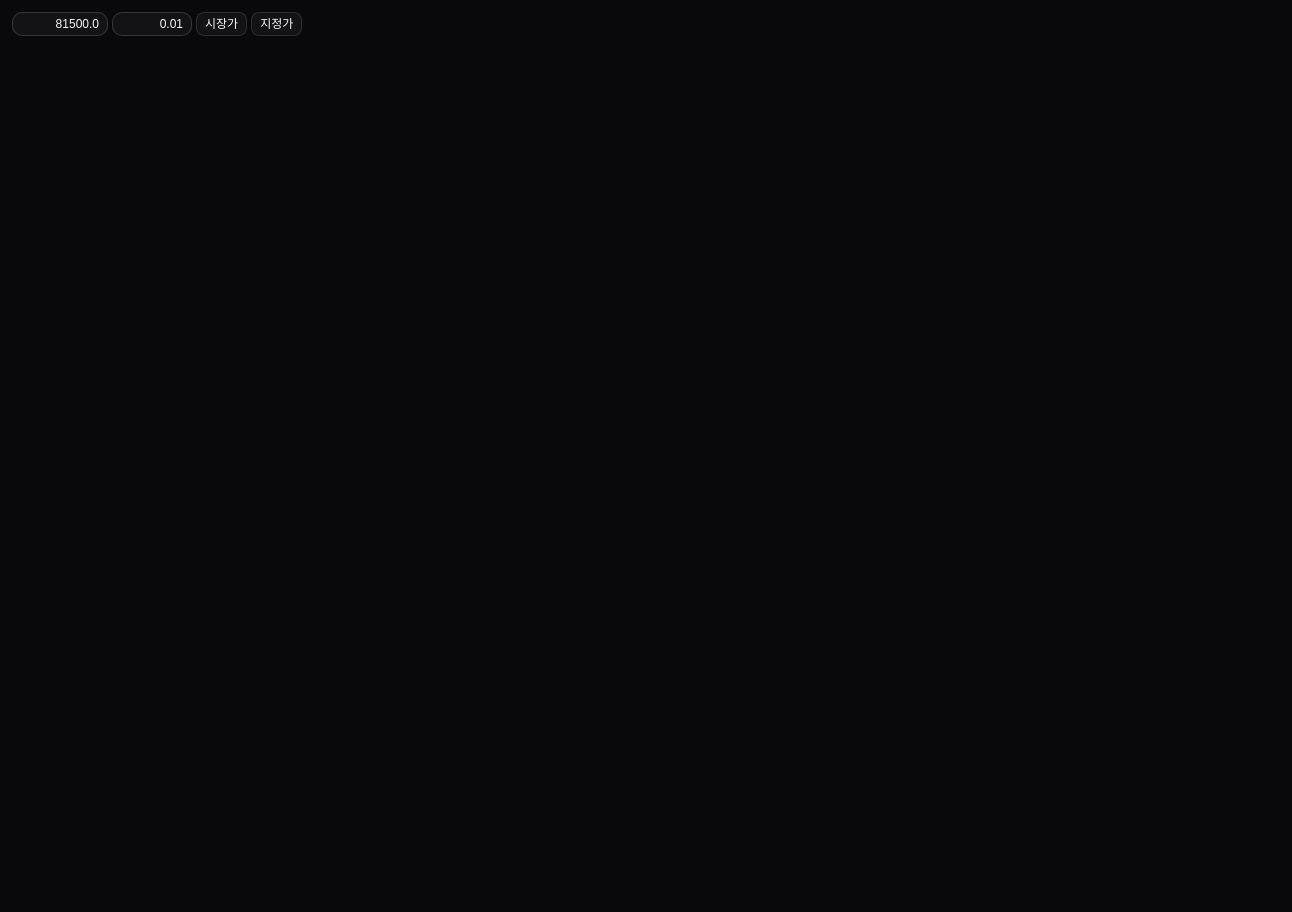
Test: ClosePositionControls › 지정가로 닫으면 고친 가격·수량으로 걸고, 대기 주문을 넣었다고 알린다
Replace the text in the field named "닫기 가격" with "82000" at (60,24), box [12, 12, 108, 36]
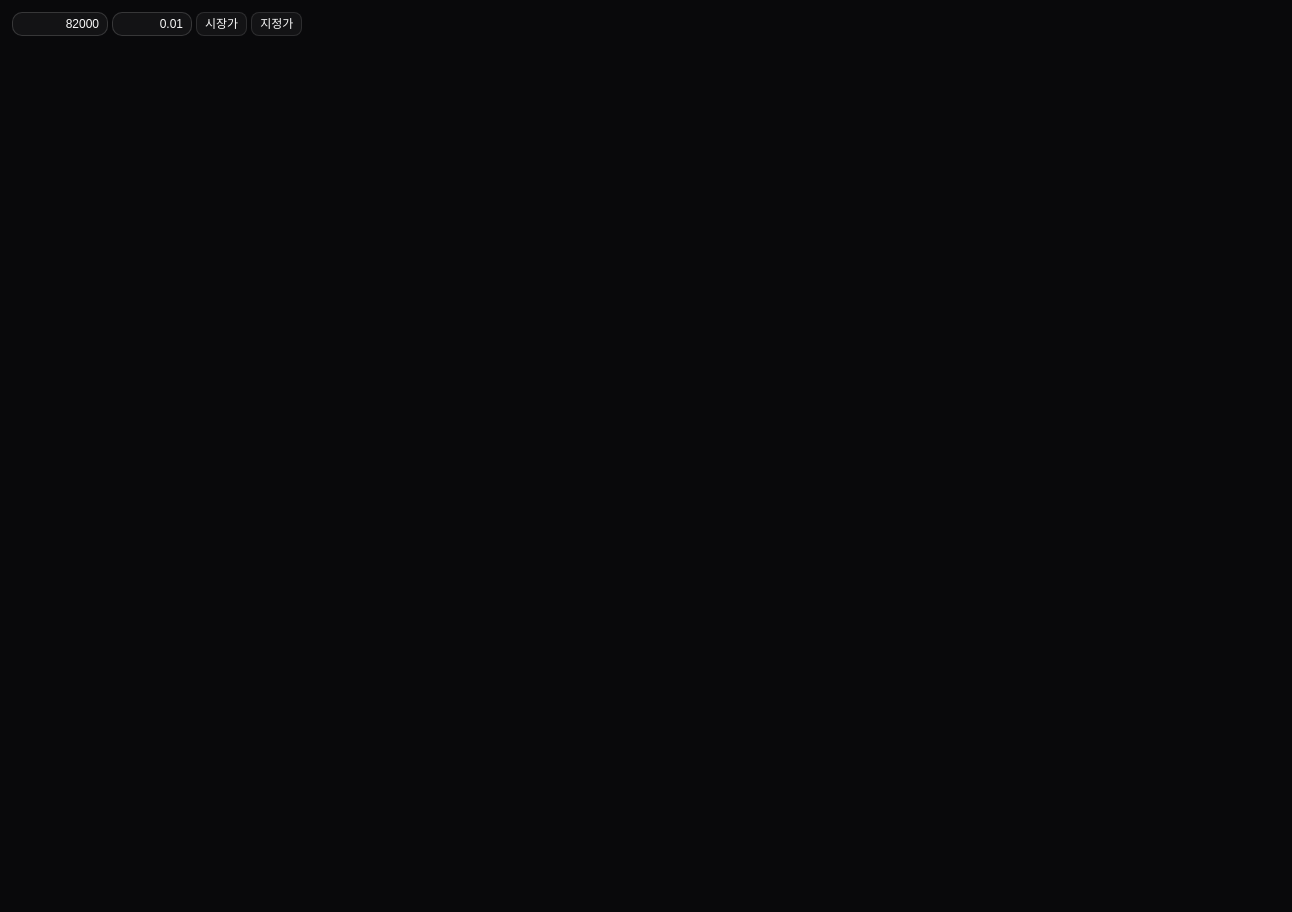
Replace the text in the field named "닫기 수량" with "0.005" at (152,24), box [112, 12, 192, 36]
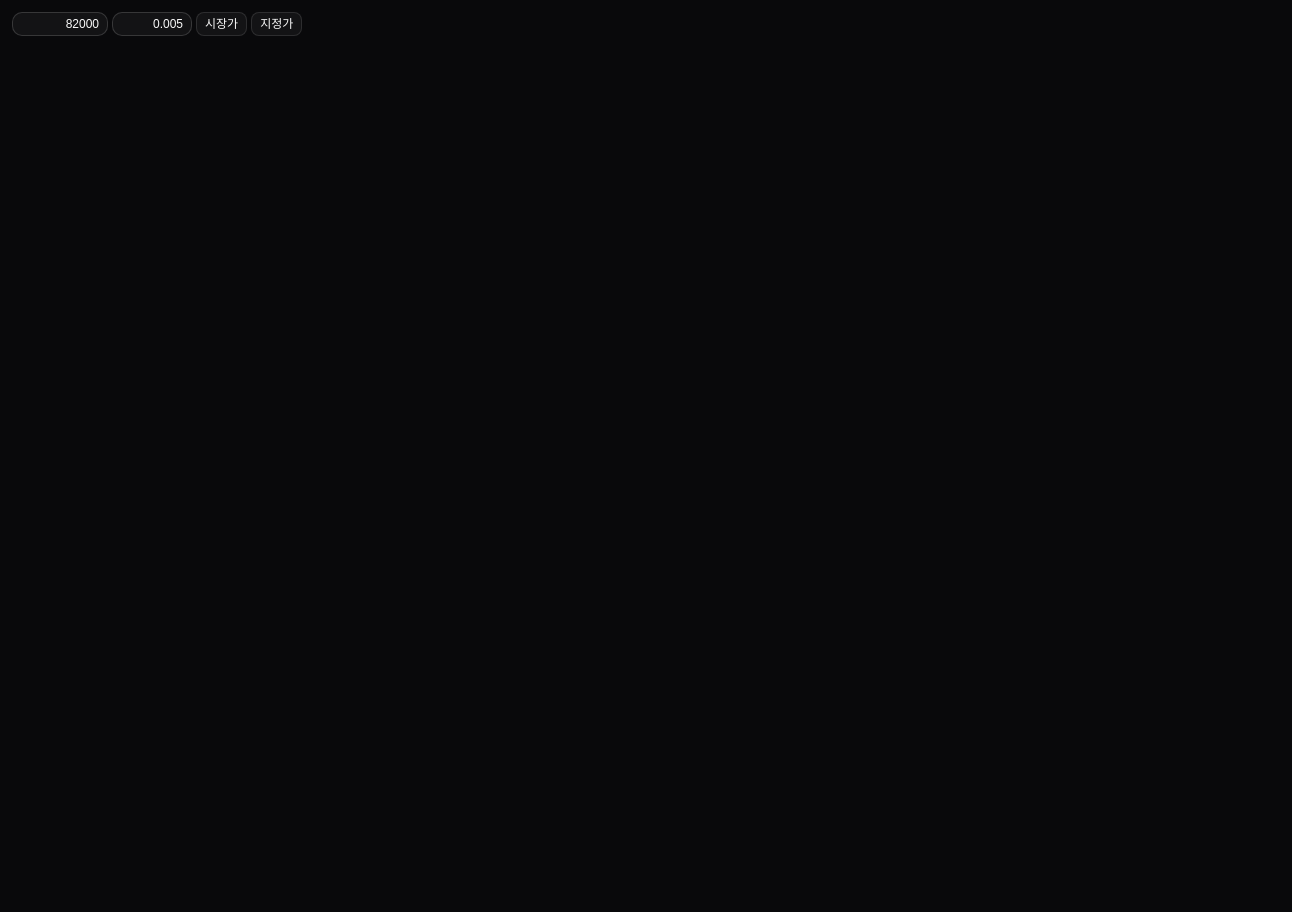
Click the button with aria-label "지정가로 닫기".
click(277, 24)  # box [251, 12, 302, 36]
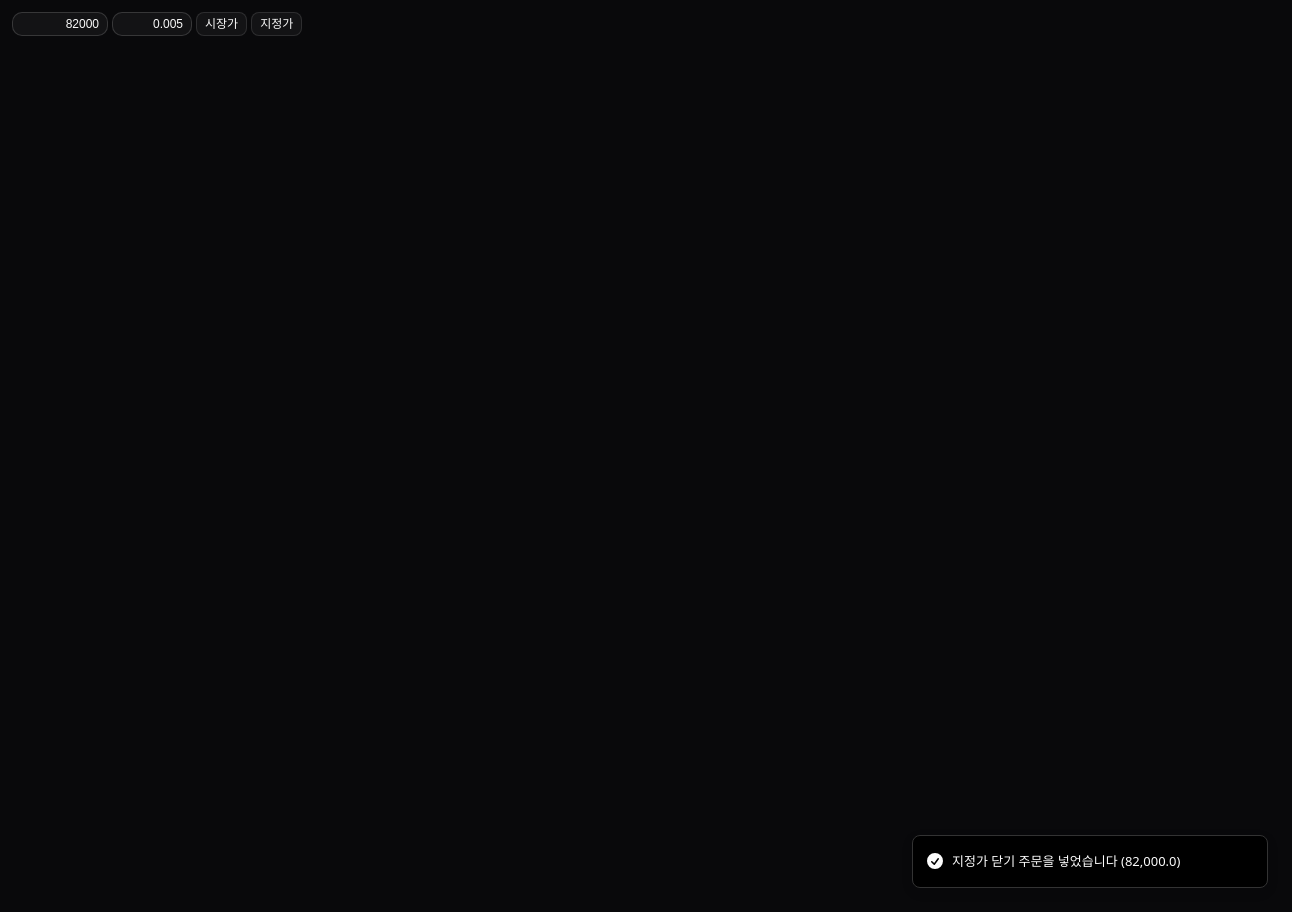
Result: the text "지정가 닫기 주문을 넣었습니다 (82,000.0)" is shown at [952, 852, 1180, 871]
